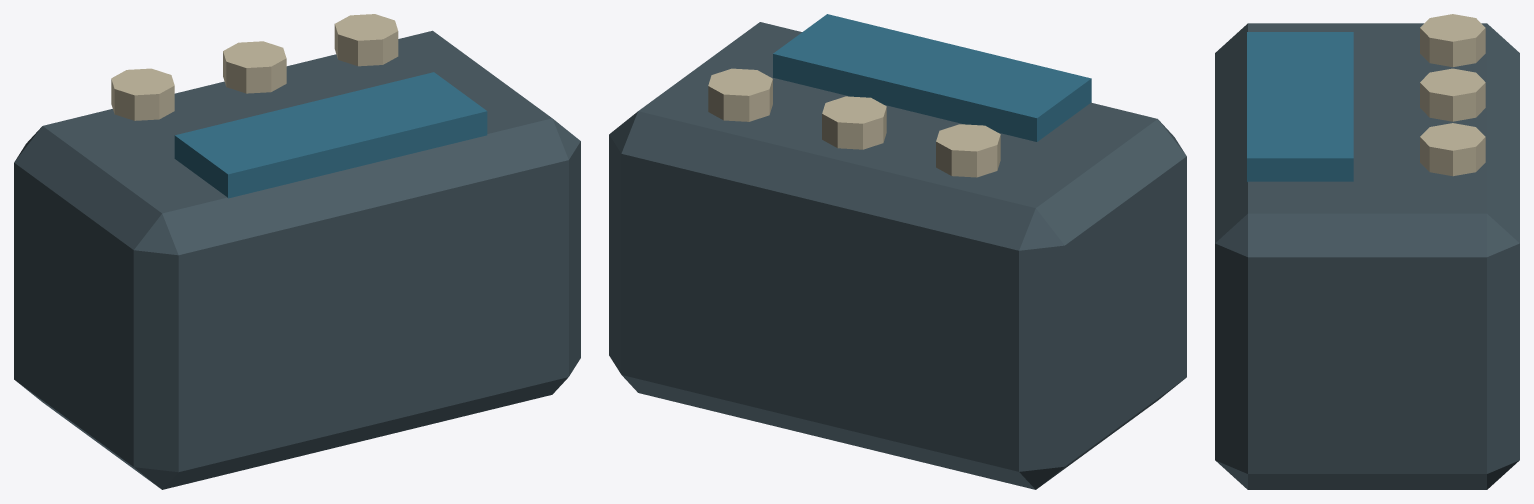
Rendered from set_car_battery.glb.
3 renders of one model, left to right at view 1: azimuth 30°, elevation 25°; view 2: azimuth 150°, elevation 25°; view 3: azimuth 270°, elevation 25°, orthographic.
Parts seen in each view (by area): view 1: set_car_battery; view 2: set_car_battery; view 3: set_car_battery.
Boxes of the visible parts, x1,y1,x2,y2 form: set_car_battery: (14, 14, 580, 489); set_car_battery: (609, 14, 1186, 489); set_car_battery: (1215, 14, 1519, 489).
Bounding box in the file's own units: 0.22 × 0.147 × 0.13.
